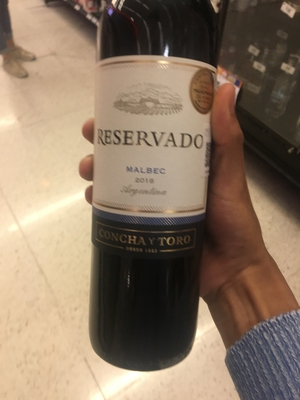reservado malbec: (88, 1, 239, 385)
